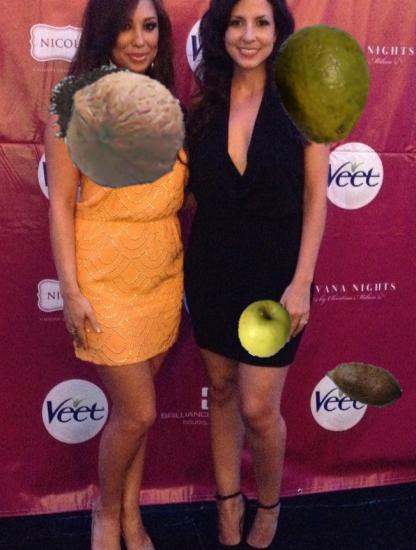Apple: (235, 299, 294, 358)
Guava: (259, 23, 383, 147)
Nut: (324, 344, 403, 423)
Rambutan: (38, 47, 151, 160)
Walnut: (63, 69, 187, 193)
